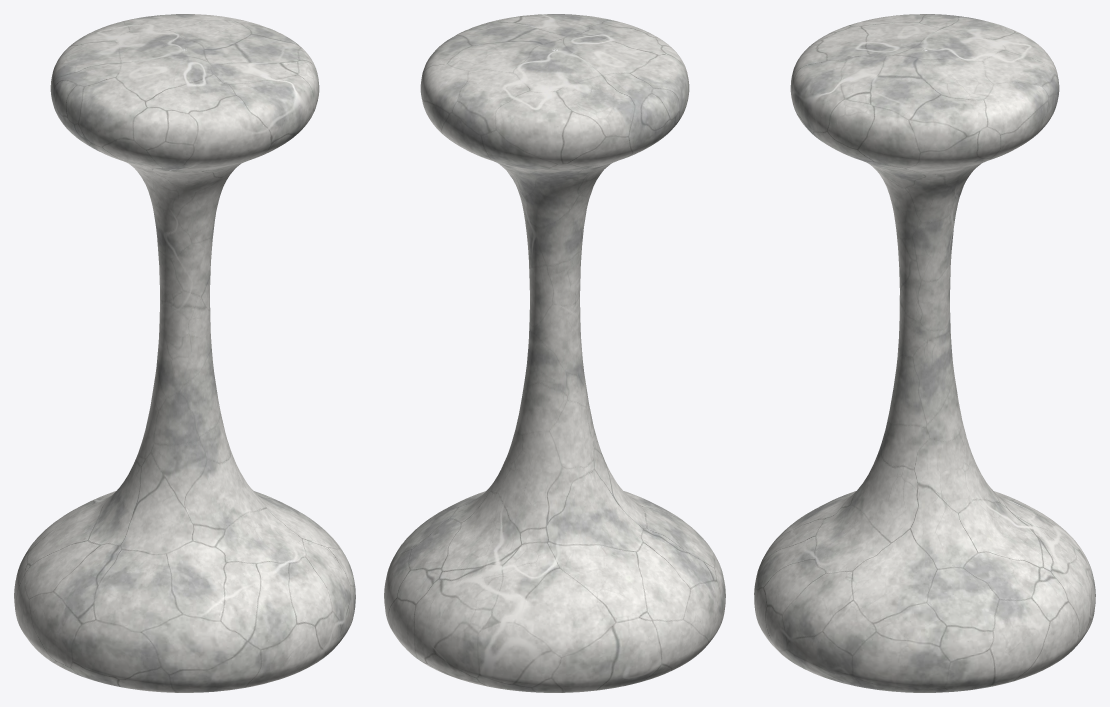
File: rook-white-hd.glb
The picture shows the model from 3 angles, left to right: view 1: azimuth 30°, elevation 25°; view 2: azimuth 150°, elevation 25°; view 3: azimuth 270°, elevation 25°; orthographic projection.
Visible parts, largest first — view 1: Serpentina_rook_white; view 2: Serpentina_rook_white; view 3: Serpentina_rook_white.
Part boxes in pixels (<box>): Serpentina_rook_white: <box>14,14,355,692</box>; Serpentina_rook_white: <box>384,14,725,692</box>; Serpentina_rook_white: <box>754,14,1095,692</box>.
Bounding box in the file's own units: 0.6539 × 1.22 × 0.6539.
Materials: 1 (1 with a texture image).
